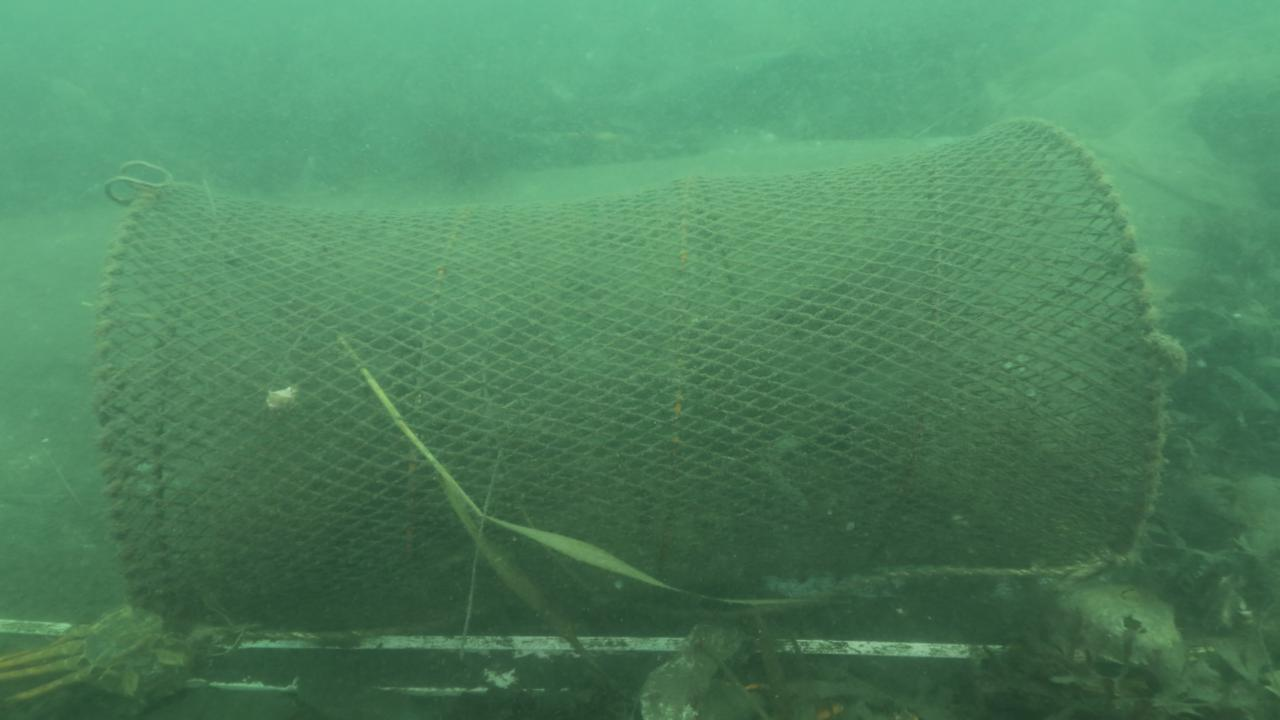spring fish trap: (90, 115, 1172, 632)
